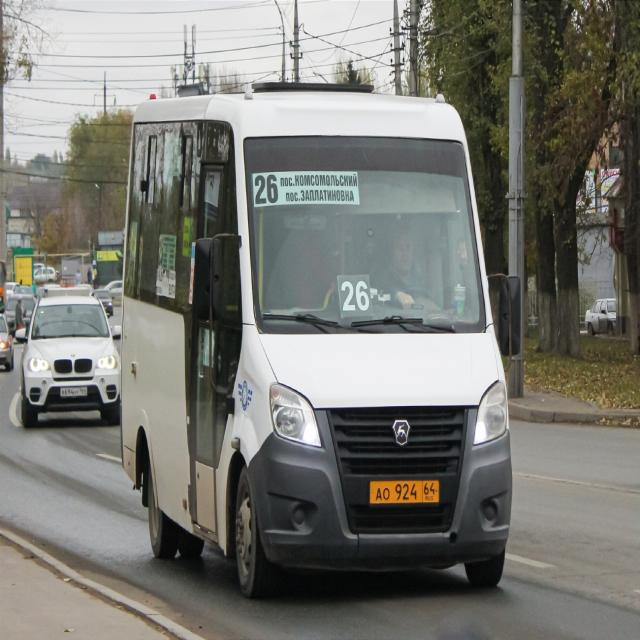number-of-bus: (338, 272, 374, 321), (255, 174, 282, 207)
